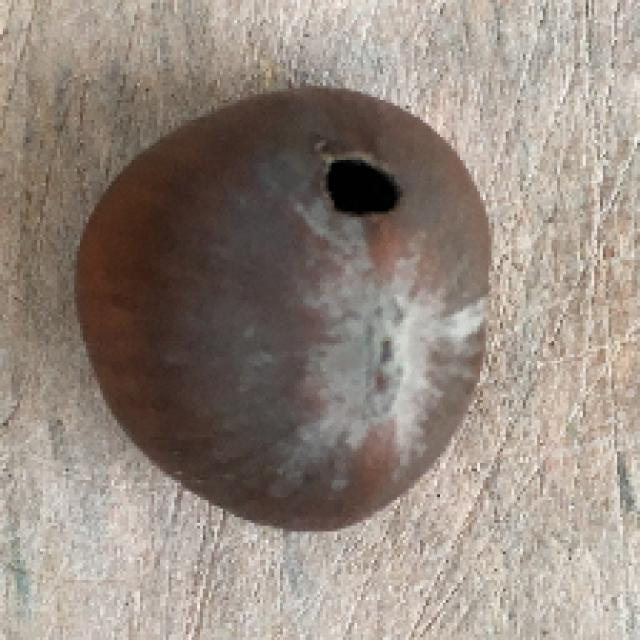damagedHazelnut: (61, 90, 517, 539)
